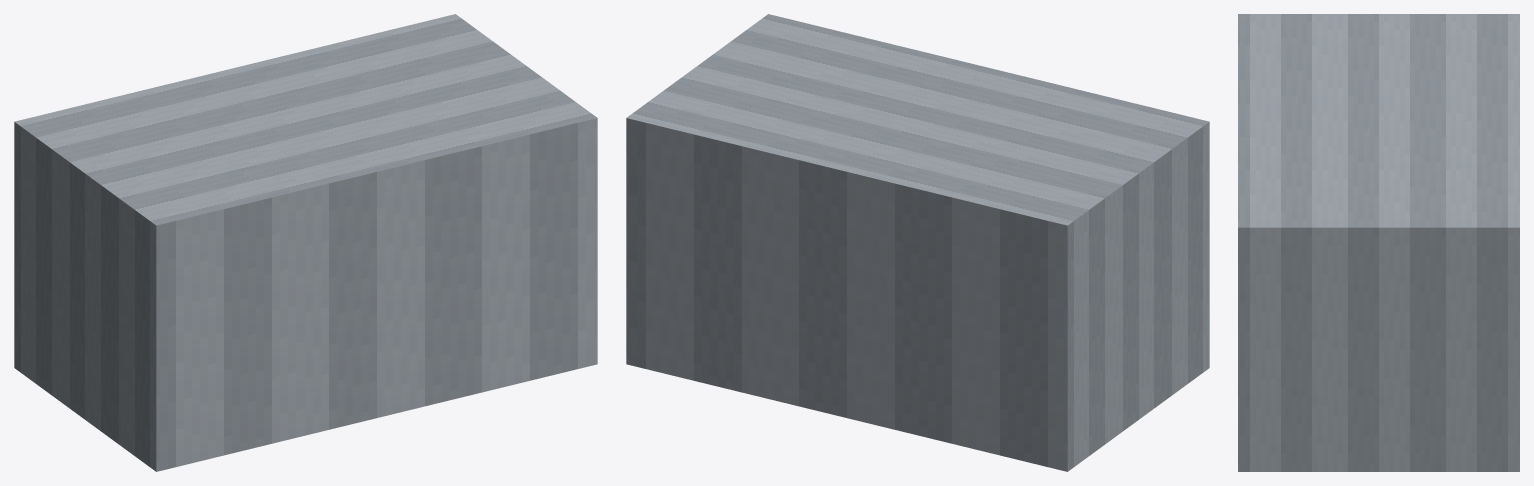
The model's file is rooftop-hvac-lod1.glb.
The picture shows the model from 3 angles, left to right: view 1: azimuth 30°, elevation 25°; view 2: azimuth 150°, elevation 25°; view 3: azimuth 270°, elevation 25°; orthographic projection.
Visible parts, largest first — view 1: rooftop-hvac-lod1; view 2: rooftop-hvac-lod1; view 3: rooftop-hvac-lod1.
Part boxes in pixels (left/top/right/bottom): rooftop-hvac-lod1: left=14, top=14, right=597, bottom=471; rooftop-hvac-lod1: left=626, top=14, right=1209, bottom=471; rooftop-hvac-lod1: left=1238, top=14, right=1519, bottom=471.
Bounding box in the file's own units: 1.65 × 0.88 × 0.92.
Materials: 1 (1 with a texture image).
